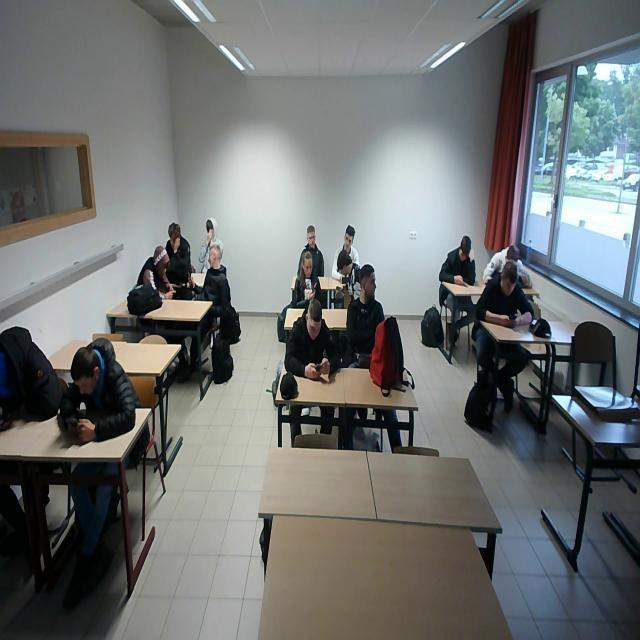phone_use: (57, 337, 135, 441), (283, 298, 338, 377), (475, 260, 531, 325), (194, 243, 229, 316), (136, 244, 173, 297), (289, 250, 323, 306), (438, 235, 474, 283)
